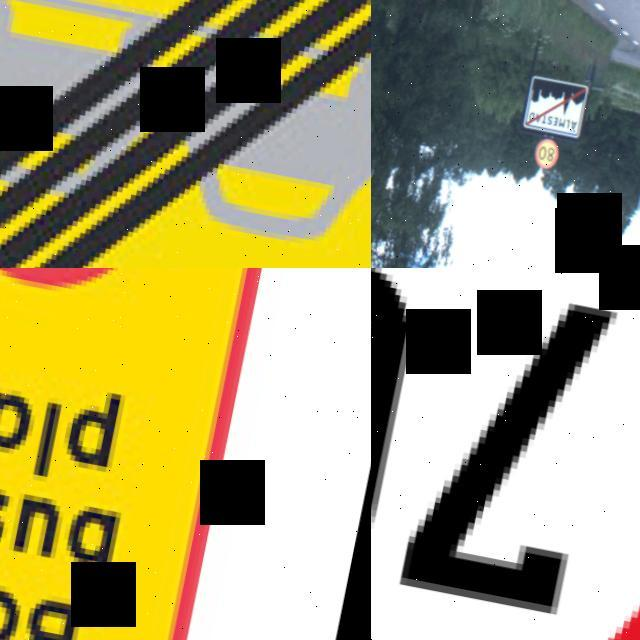108: (0, 0, 371, 268)
128: (520, 70, 592, 142)
177: (0, 268, 306, 640)
55: (531, 134, 564, 176)
speed limit-70: (371, 268, 640, 640)
